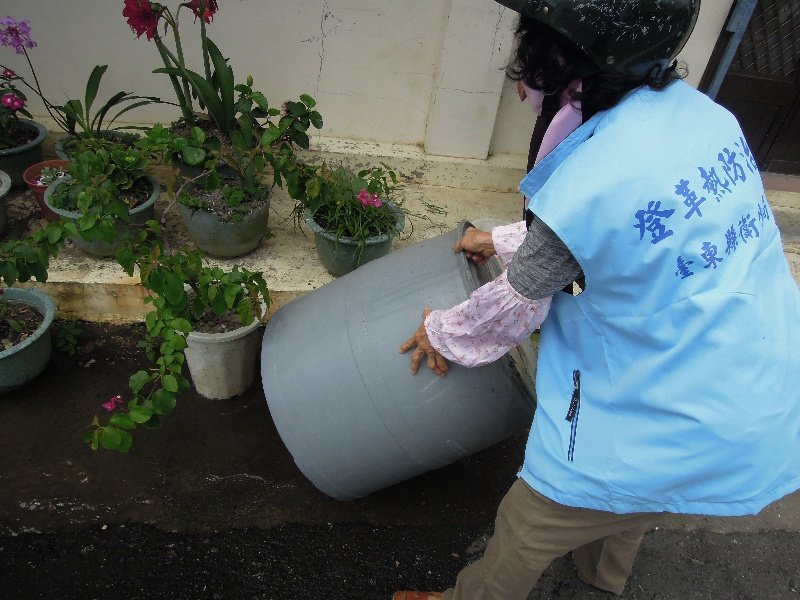bucket: (259, 219, 545, 504)
